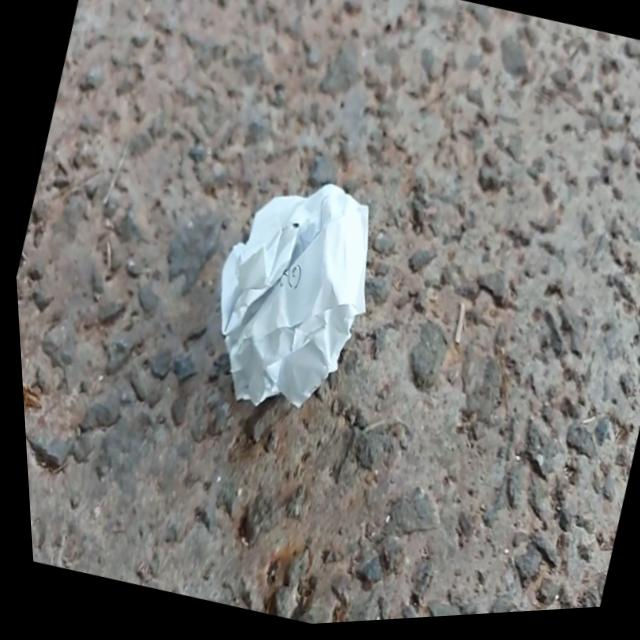paper: (221, 184, 367, 406)
